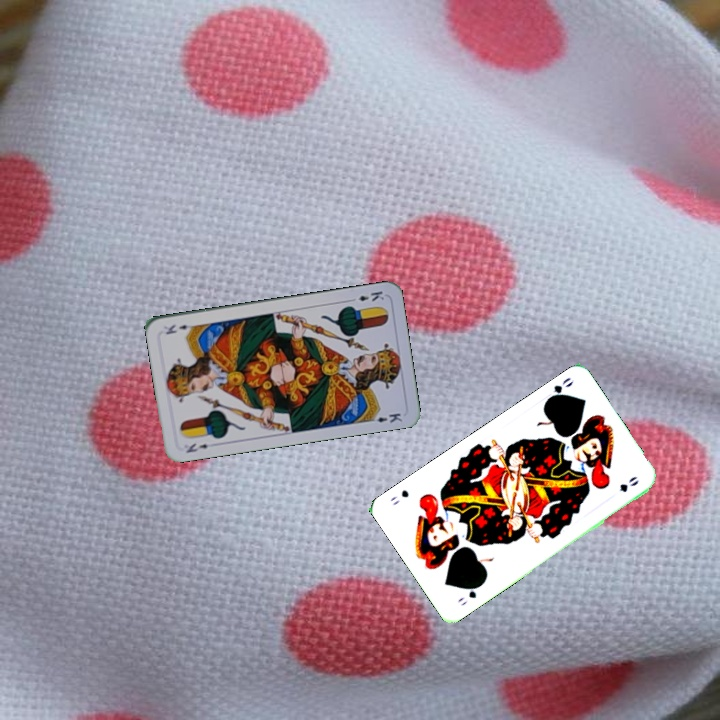EK: (346, 287, 387, 304), (182, 439, 211, 455)
GO: (542, 373, 576, 405), (454, 580, 485, 609)
